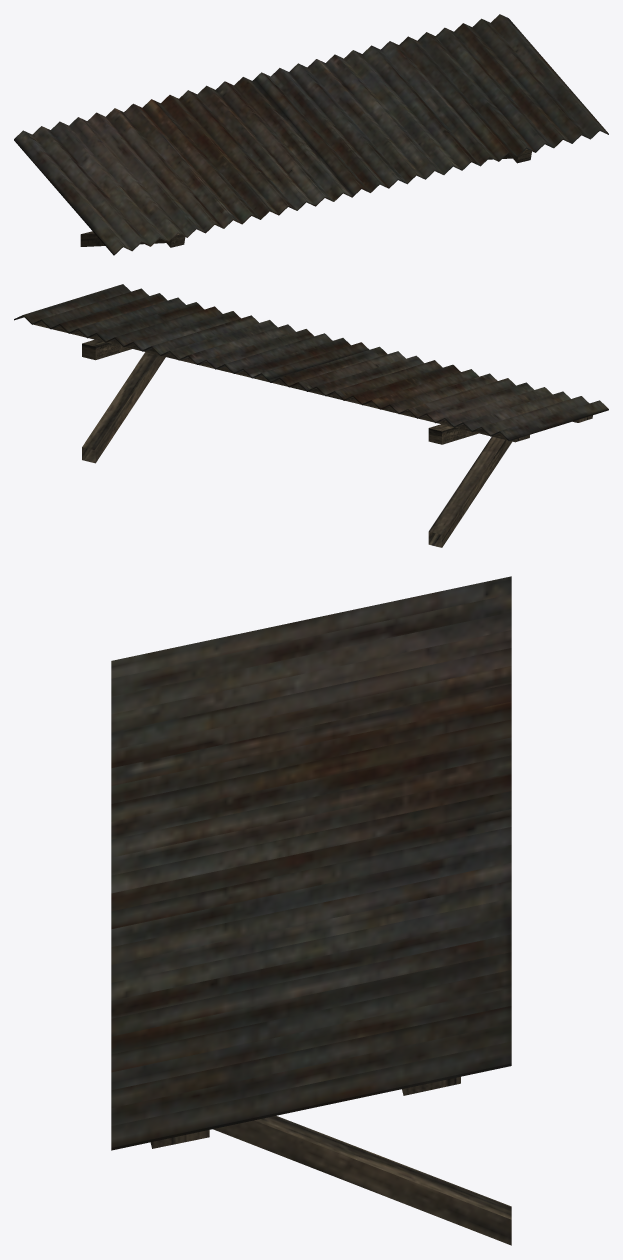
The model's file is roof_small_hr_3.dae.
The picture shows the model from 3 angles, top to bottom: view 1: azimuth 30°, elevation 25°; view 2: azimuth 150°, elevation 25°; view 3: azimuth 270°, elevation 25°; orthographic projection. The views are drawn at different scales.
Parts seen in each view (by area): view 1: roof_small_hr_3; view 2: roof_small_hr_3; view 3: roof_small_hr_3.
Boxes of the visible parts, bbox=[...] form: roof_small_hr_3: bbox=[14, 14, 608, 255]; roof_small_hr_3: bbox=[14, 284, 608, 547]; roof_small_hr_3: bbox=[111, 576, 511, 1245].
Size of the model in its own units: 4 by 1.4 by 1.01.
2 materials, 2 textured.
